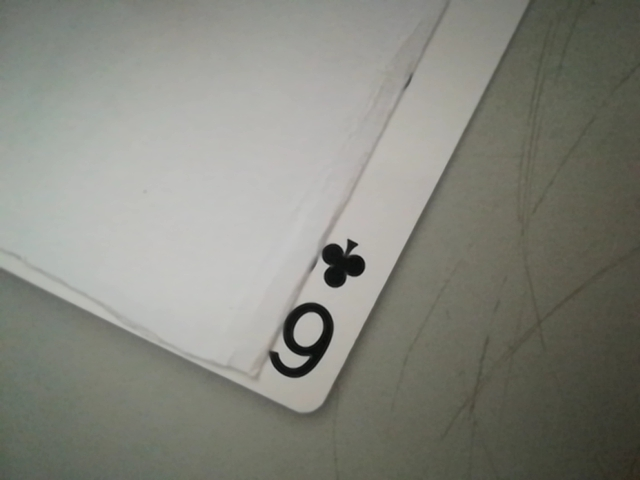mh 6: (265, 231, 378, 399)
